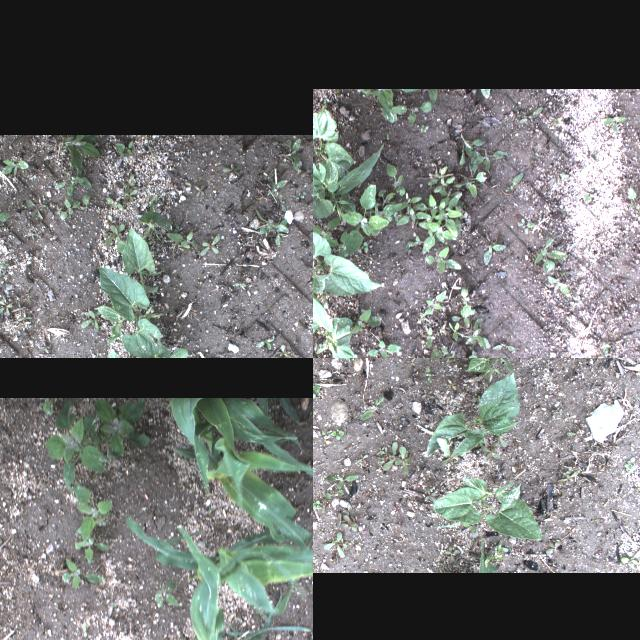crop: (125, 516, 313, 640), (172, 401, 313, 545), (95, 221, 188, 358), (313, 106, 383, 249), (424, 372, 520, 462), (424, 472, 542, 542), (165, 584, 310, 640), (313, 228, 382, 301), (313, 289, 364, 358), (468, 358, 514, 379)
weed: (44, 398, 104, 494), (380, 188, 462, 256), (332, 184, 392, 256), (92, 398, 152, 464), (358, 90, 438, 132), (54, 136, 100, 194), (74, 484, 114, 538), (456, 133, 508, 171), (134, 190, 170, 242), (254, 208, 292, 252), (105, 170, 137, 216), (60, 557, 102, 591), (530, 235, 566, 273), (57, 193, 99, 223), (420, 247, 464, 275), (272, 136, 302, 176), (378, 440, 412, 474), (474, 538, 508, 572), (478, 235, 512, 268), (262, 175, 290, 215), (162, 222, 198, 252), (73, 536, 109, 566), (450, 170, 488, 197), (407, 342, 471, 358), (416, 290, 446, 324), (540, 270, 572, 300), (461, 320, 489, 354), (384, 159, 408, 197), (428, 158, 452, 194), (365, 335, 402, 358), (512, 104, 542, 132), (195, 228, 221, 260), (20, 196, 48, 224), (600, 108, 630, 134), (320, 532, 350, 558), (498, 171, 526, 197), (352, 308, 380, 334), (0, 154, 29, 179), (112, 136, 138, 162), (358, 396, 384, 422), (154, 580, 178, 608), (339, 513, 366, 537), (452, 304, 476, 330), (622, 183, 640, 216), (324, 474, 360, 490), (250, 331, 276, 353), (554, 162, 580, 184), (78, 305, 98, 333), (439, 318, 459, 344), (259, 344, 294, 358), (606, 274, 628, 294), (514, 217, 536, 237), (538, 172, 556, 196), (392, 94, 428, 106), (452, 288, 476, 306), (0, 197, 9, 244), (544, 111, 570, 127), (231, 276, 251, 296), (13, 302, 31, 324), (184, 181, 208, 197), (593, 341, 615, 358), (422, 326, 436, 352), (222, 162, 242, 180), (474, 114, 504, 126), (0, 258, 14, 282), (320, 427, 344, 441), (492, 341, 516, 353), (398, 248, 416, 264), (480, 444, 498, 460), (0, 300, 13, 322), (37, 339, 52, 358), (144, 138, 156, 160), (584, 188, 598, 206), (444, 546, 458, 564), (22, 228, 36, 245), (290, 188, 306, 202), (628, 341, 640, 358), (619, 556, 639, 566), (544, 542, 560, 554), (43, 399, 53, 416), (313, 496, 326, 509), (477, 90, 491, 102), (417, 122, 431, 134), (378, 130, 392, 142), (463, 347, 477, 358), (631, 236, 640, 253), (313, 380, 320, 401), (623, 460, 635, 472), (80, 624, 86, 638), (110, 603, 116, 607)
